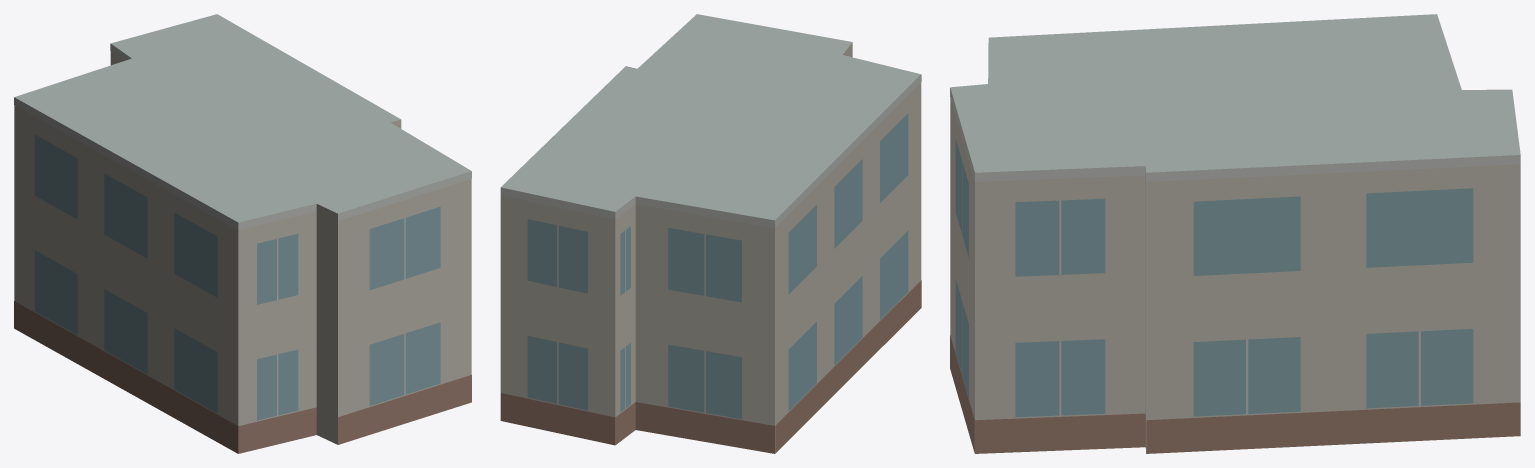
The model's file is survey-upis-32606010.glb.
The picture shows the model from 3 angles, left to right: view 1: azimuth 30°, elevation 25°; view 2: azimuth 150°, elevation 25°; view 3: azimuth 270°, elevation 25°; orthographic projection. The views are drawn at different scales.
Parts seen in each view (by area): view 1: survey-upis-32606010.tmp; view 2: survey-upis-32606010.tmp; view 3: survey-upis-32606010.tmp.
Part boxes in pixels (<box>): survey-upis-32606010.tmp: <box>14,14,471,453</box>; survey-upis-32606010.tmp: <box>500,14,921,453</box>; survey-upis-32606010.tmp: <box>950,14,1520,453</box>.
Bounding box in the file's own units: 8.97 × 7.4 × 13.62.
